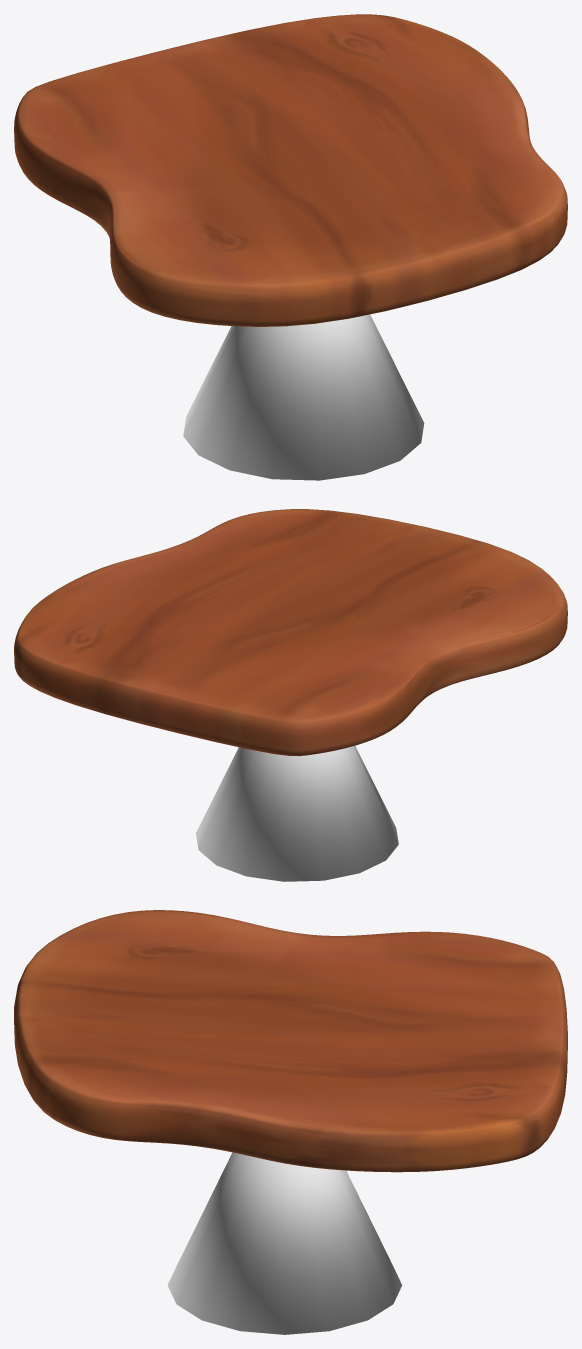
File: SM_Tables3.fbx
3 renders of one model, top to bottom at view 1: azimuth 30°, elevation 25°; view 2: azimuth 150°, elevation 25°; view 3: azimuth 270°, elevation 25°, orthographic. The views are drawn at different scales.
Parts seen in each view (by area): view 1: ShroomTableTop.002, ShroomTableLegCone; view 2: ShroomTableTop.002, ShroomTableLegCone; view 3: ShroomTableTop.002, ShroomTableLegCone.
Boxes of the visible parts, x1,y1,x2,y2 form: ShroomTableTop.002: [14, 14, 567, 326]; ShroomTableLegCone: [183, 314, 424, 480]; ShroomTableTop.002: [14, 509, 567, 756]; ShroomTableLegCone: [196, 745, 398, 881]; ShroomTableTop.002: [14, 910, 567, 1172]; ShroomTableLegCone: [167, 1152, 402, 1334].
Bounding box in the file's own units: 190 × 103 × 195.
